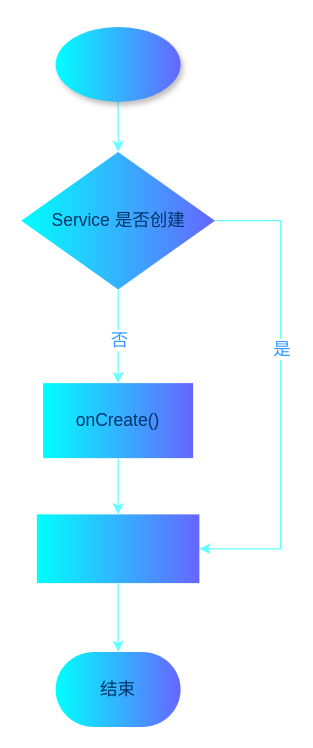
Image size: 313x748. Some labels were removed from this diagram. Here are the shapes that lost their labels. From the top down, the centre of each, then its label:
At point (119, 65): "bindService()".
At point (117, 548): "onBind()".
